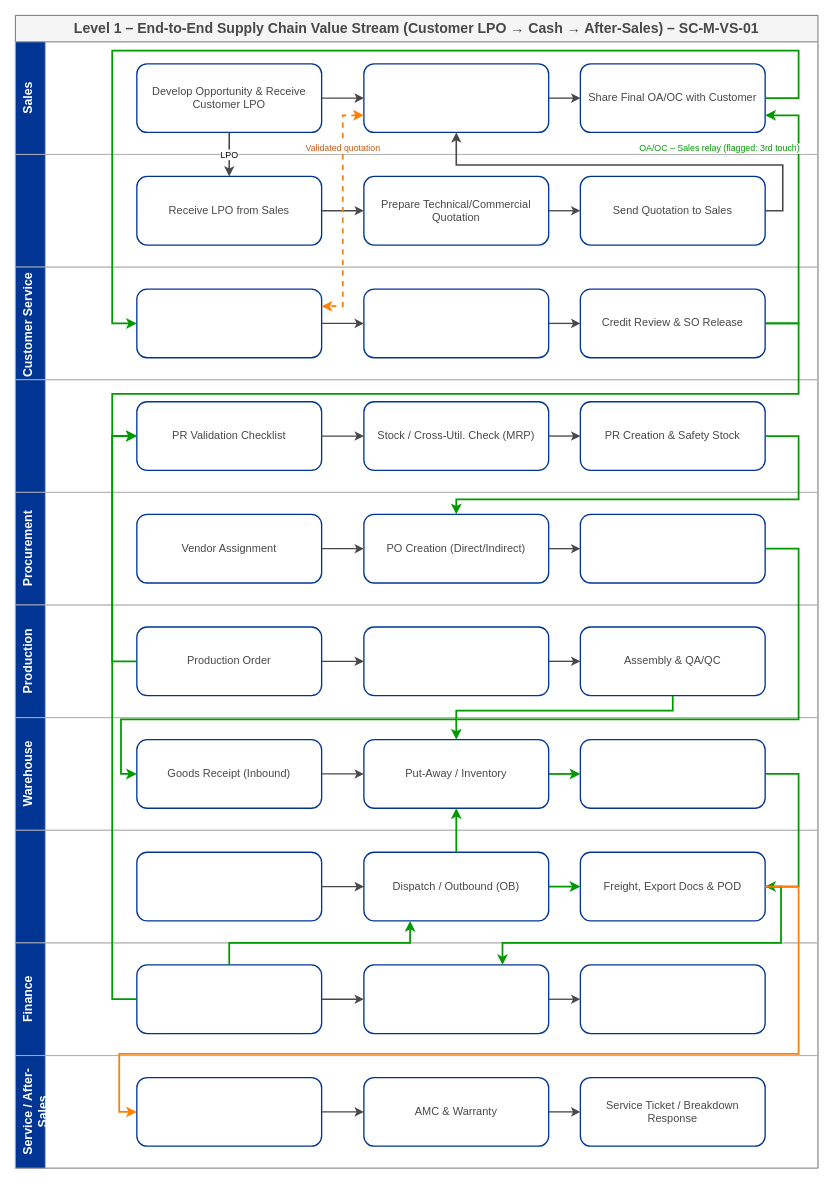
Image size: 833x1184. Some labels were removed from this diagram. Each missing label, with the box of its shape:
Collection & Costing Update: (579, 964, 765, 1034)
Credit Review / Release: (136, 964, 322, 1034)
CS Checklist & Create Sales Order: (363, 288, 549, 358)
Estimator: (15, 154, 818, 267)
Installation / Commissioning: (136, 1077, 322, 1146)
Invoice Processing: (363, 964, 549, 1034)
Logistics: (15, 829, 818, 943)
Material Planning: (15, 379, 818, 492)
Order Confirm. & Vendor Follow-up: (579, 513, 765, 583)
Pick & Pack: (579, 739, 765, 809)
Present Estimator's Quotation to Customer: (363, 63, 549, 133)
Receive Validated Quotation from Sales: (136, 288, 322, 358)
Shipping Documentation: (136, 851, 322, 921)
Subcontract Decision (3-Quote): (363, 626, 549, 696)
